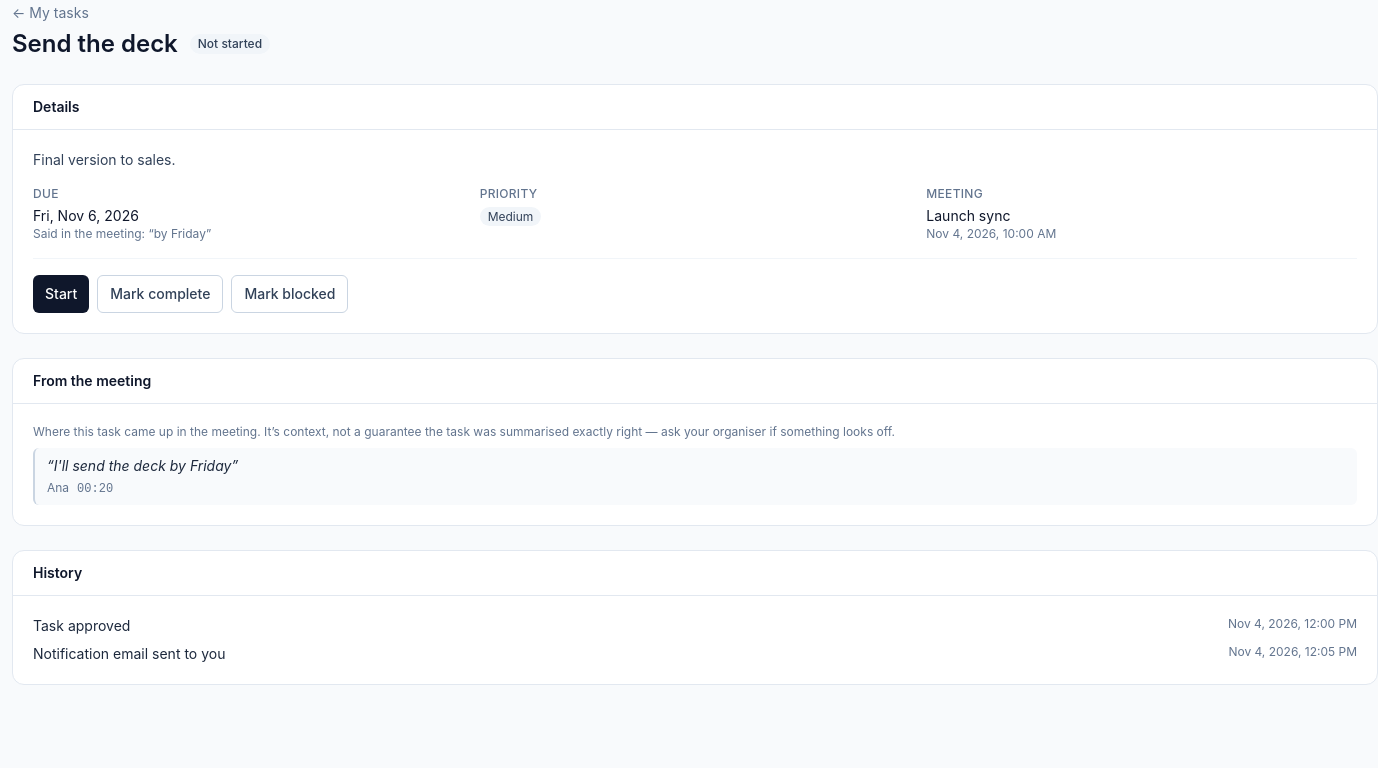
Test case: task detail › shows details, evidence with a caveat, history, and updates status
Check: the heading "Send the deck" is shown, box [12, 28, 178, 60]
Check: the text "Said in the meeting: “by Friday”" is shown, box [33, 226, 211, 241]
Step 1. Click the button "Mark complete" → click(160, 294), box [97, 275, 224, 313]
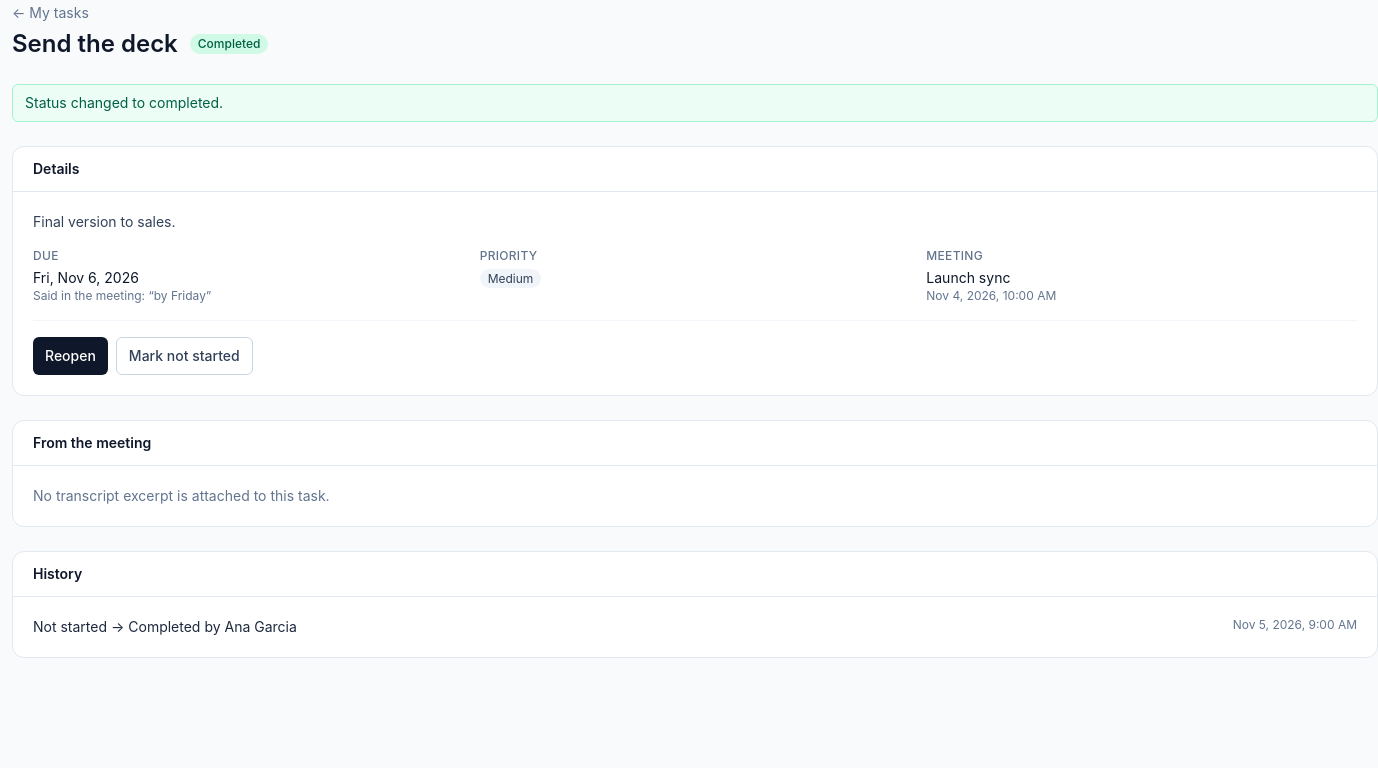
Check: the text "Status changed to completed." is shown, box [12, 84, 1377, 122]
Check: the text "Not started → Completed by Ana Garcia" is shown, box [33, 617, 297, 637]
Check: the button "Reopen" is shown, box [33, 337, 108, 375]
